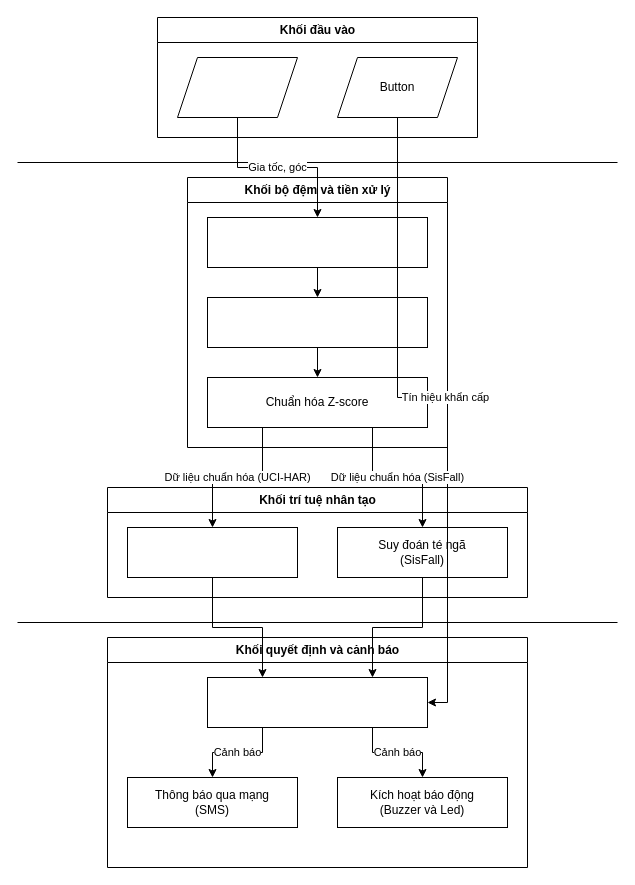
The diagram is 635 pixels wide and 885 high, and some of its shapes have lost their labels. The shapes that lost their labels are listed below. From the top down, each one's centre as x and y in pixels, then its label:
the point at 237,87: MPU6050
the point at 317,242: Lưu trữ thô (Bộ đệm 128 mẫu)
the point at 317,322: Sao chép và tách luồng (Bộ đệm Inference)
the point at 212,552: Suy đoán chuyển động (UCI-HAR)
the point at 317,702: Xử lý đối soát (Rule-based và Threshold)
